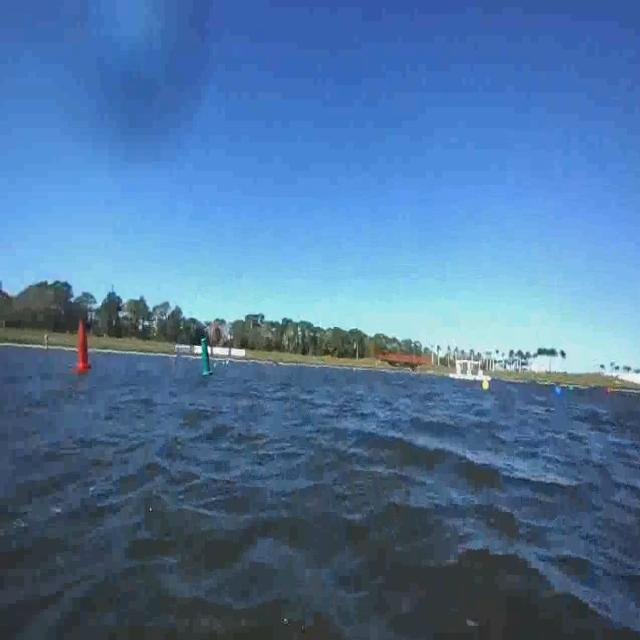green-column-buoy: (194, 326, 214, 381)
red-column-buoy: (72, 314, 94, 378)
